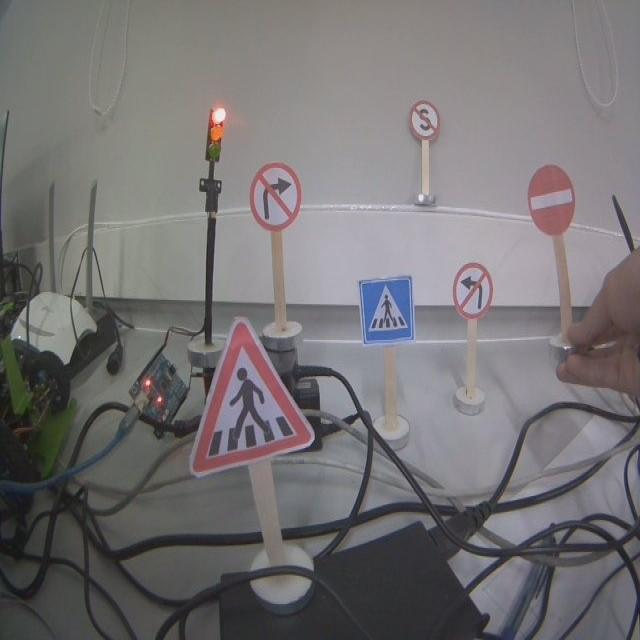Dilarang Belok Kanan: (250, 163, 301, 229)
Dilarang Belok Kiri: (453, 262, 493, 318)
Dilarang Masuk: (526, 166, 574, 233)
Lampu Merah: (205, 105, 225, 160)
Rambu Berhenti: (409, 100, 439, 140)
Rambu Penyebrangan: (190, 318, 313, 474), (357, 274, 415, 346)
